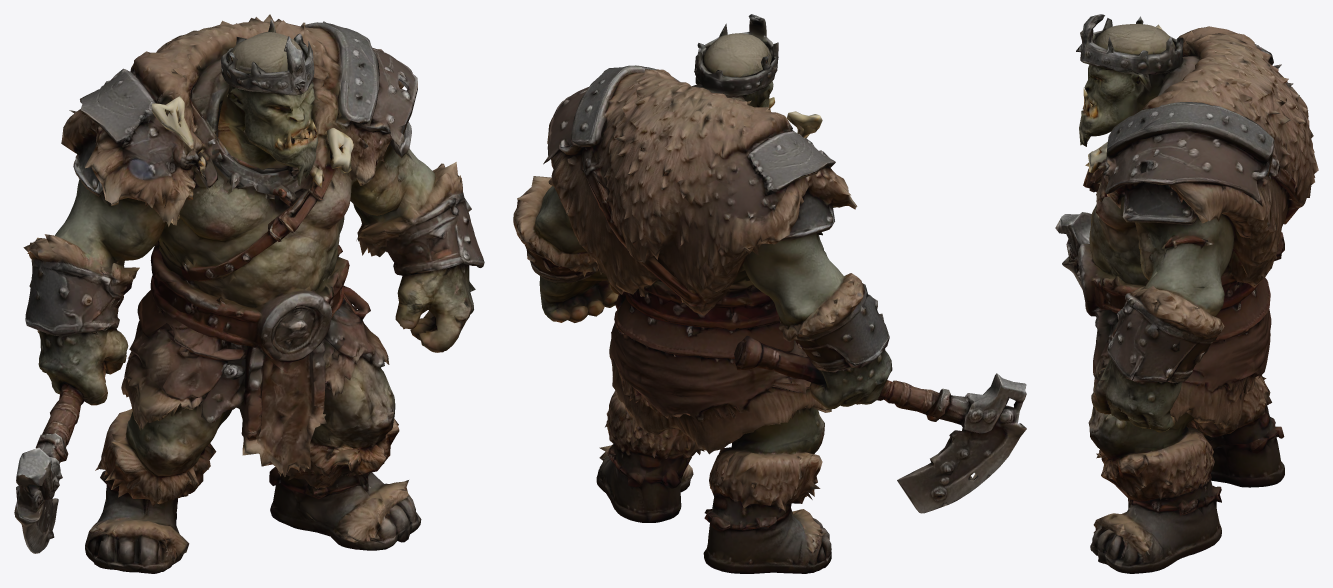
The model's file is orcWarchief.glb.
3 views of the same model, side by side, from view 1: azimuth 30°, elevation 25°; view 2: azimuth 150°, elevation 25°; view 3: azimuth 270°, elevation 25° (orthographic). The views are drawn at different scales.
Parts seen in each view (by area): view 1: tripo_node_e8ea10d2_tripo_mat_e8ea10d2_0; view 2: tripo_node_e8ea10d2_tripo_mat_e8ea10d2_0; view 3: tripo_node_e8ea10d2_tripo_mat_e8ea10d2_0.
Part boxes in pixels (x1,y1,x2,y2): tripo_node_e8ea10d2_tripo_mat_e8ea10d2_0: (14,14,484,573); tripo_node_e8ea10d2_tripo_mat_e8ea10d2_0: (513,14,1026,573); tripo_node_e8ea10d2_tripo_mat_e8ea10d2_0: (1055,14,1318,573).
Size of the model in its own units: 0.9637 by 0.9795 by 0.4683.
Materials: 1 (1 with a texture image).
